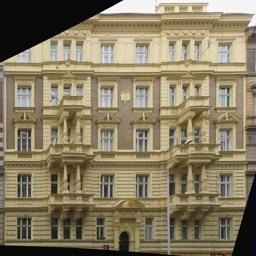building: (0, 7, 255, 241)
